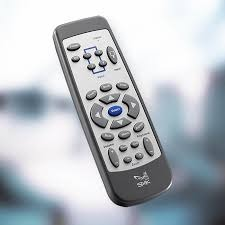remote control: (51, 19, 174, 213)
